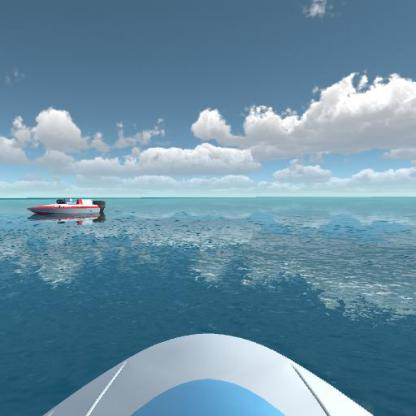usv1: (58, 192, 86, 206)
usv3: (24, 196, 107, 228)
